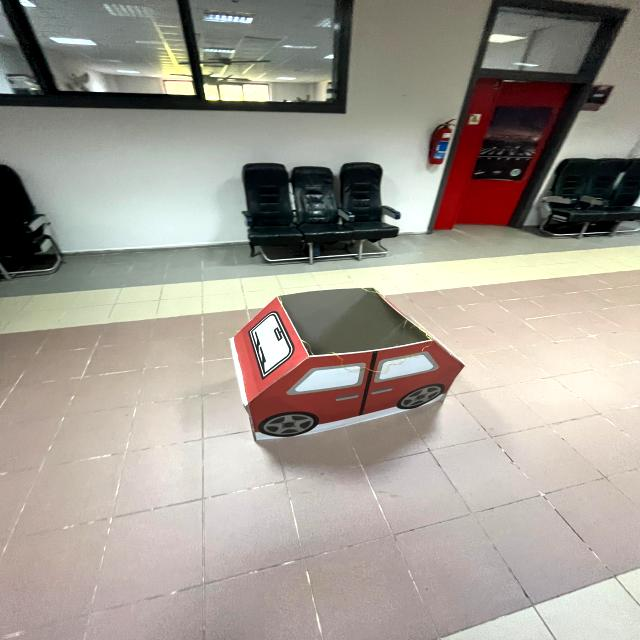red_car: (213, 271, 489, 456)
